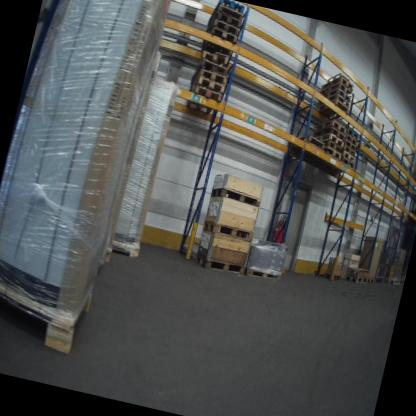pallet: (0, 257, 104, 355), (183, 84, 224, 121), (208, 184, 263, 211), (185, 56, 230, 87), (199, 220, 255, 244), (194, 252, 245, 276), (319, 67, 358, 97), (209, 0, 245, 32), (288, 131, 323, 162), (314, 91, 351, 120), (317, 79, 356, 105), (318, 98, 354, 126), (203, 26, 240, 52), (110, 241, 142, 269), (245, 264, 284, 286), (313, 113, 348, 135), (318, 86, 351, 108), (311, 129, 347, 149), (192, 67, 228, 87), (191, 76, 225, 97), (311, 124, 347, 142), (97, 236, 117, 268), (208, 17, 240, 37), (212, 12, 242, 33), (214, 5, 244, 25), (201, 49, 232, 66), (323, 149, 344, 164), (345, 274, 367, 288), (368, 275, 386, 291), (324, 140, 344, 154), (340, 156, 356, 172), (383, 276, 401, 289), (343, 140, 358, 153), (342, 150, 357, 163), (344, 134, 358, 146), (363, 274, 375, 287), (342, 145, 357, 155), (397, 280, 404, 287), (400, 276, 405, 282)
